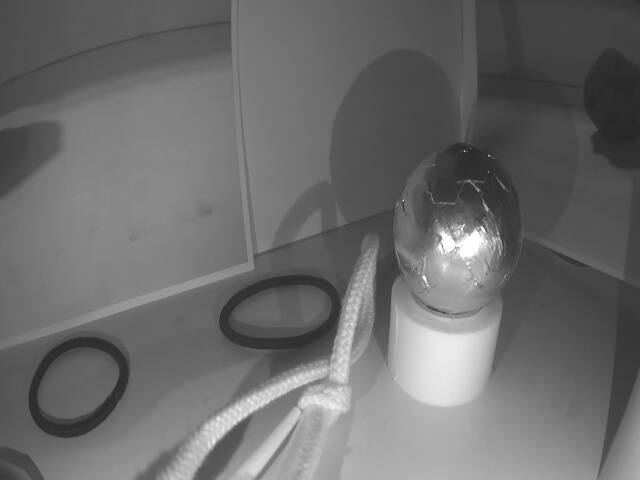Live: (394, 136, 523, 312)
